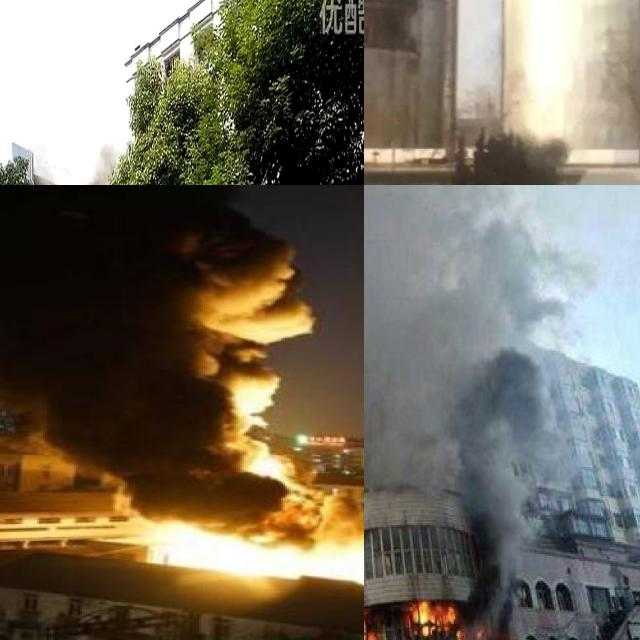fire: (133, 525, 364, 585), (408, 595, 462, 638), (364, 610, 377, 640)
smoke: (0, 185, 353, 535), (364, 185, 588, 612), (34, 144, 123, 185)
